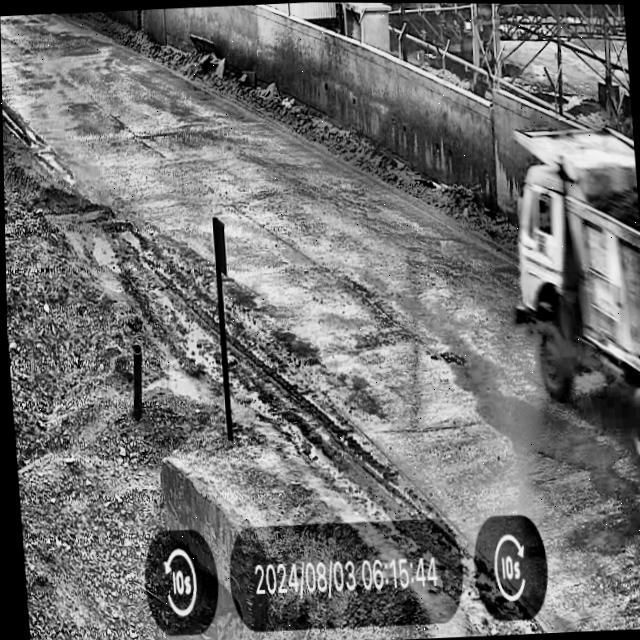dump_truck: (504, 78, 640, 490)
